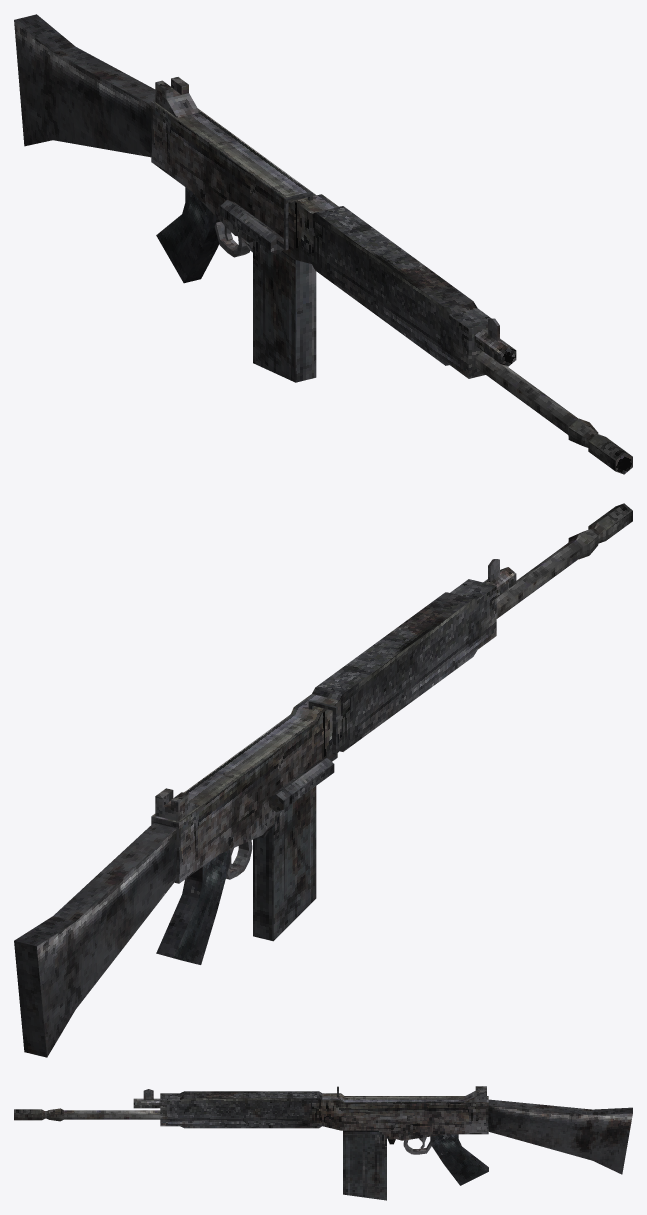
The model's file is PSX_Old_FN_FAL.glb.
3 renders of one model, top to bottom at view 1: azimuth 30°, elevation 25°; view 2: azimuth 150°, elevation 25°; view 3: azimuth 270°, elevation 25°, orthographic. The views are drawn at different scales.
Visible parts, largest first — view 1: SM_FN_FAL; view 2: SM_FN_FAL; view 3: SM_FN_FAL.
Part boxes in pixels (box(x1,y1,x2,y2)): SM_FN_FAL: box(14, 14, 632, 474); SM_FN_FAL: box(14, 503, 632, 1057); SM_FN_FAL: box(14, 1086, 632, 1200).
Size of the model in its own units: 0.0572 by 0.2517 by 1.3.
Materials: 1 (1 with a texture image).
